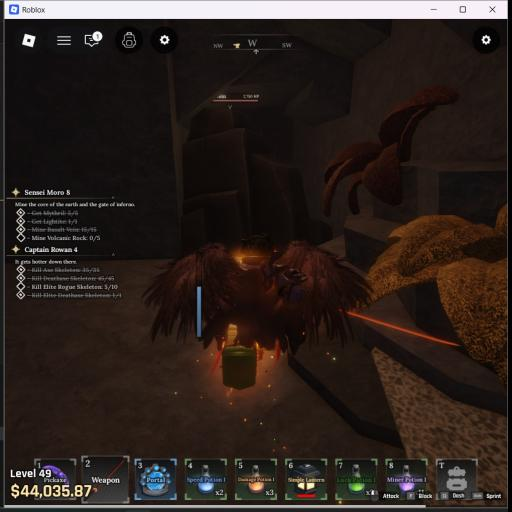player: (144, 233, 372, 357)
rock: (180, 109, 319, 252)
